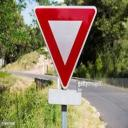preferencia: (32, 3, 100, 90)
